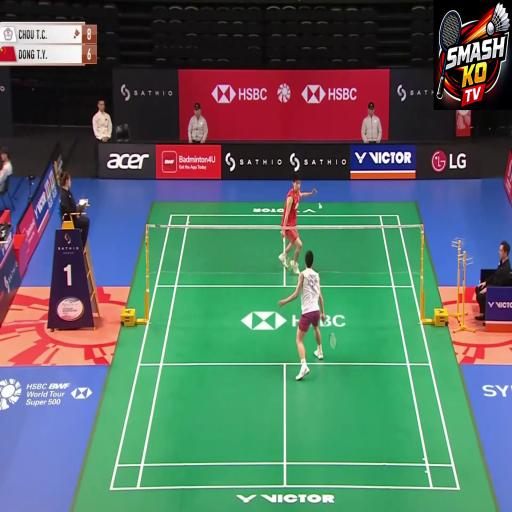player: (286, 249, 336, 384), (266, 160, 304, 278)
